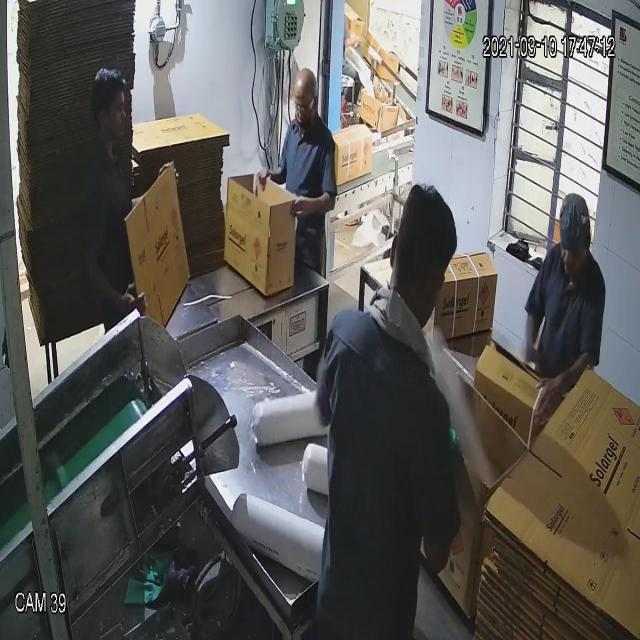Gloves: (58, 52, 570, 394)
